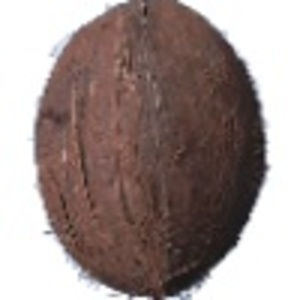coco: (36, 1, 268, 300)
